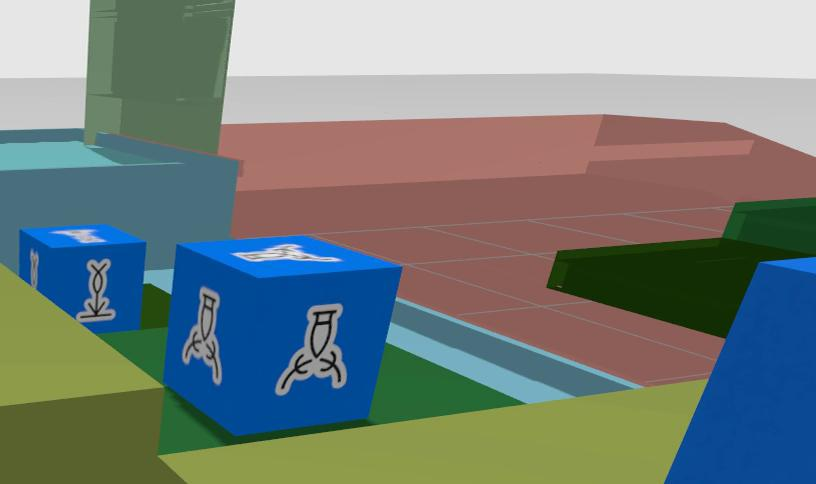KFS_REAL: (163, 236, 399, 434), (664, 257, 815, 484), (19, 224, 143, 331), (275, 304, 346, 395), (182, 287, 220, 383), (75, 260, 116, 321)
